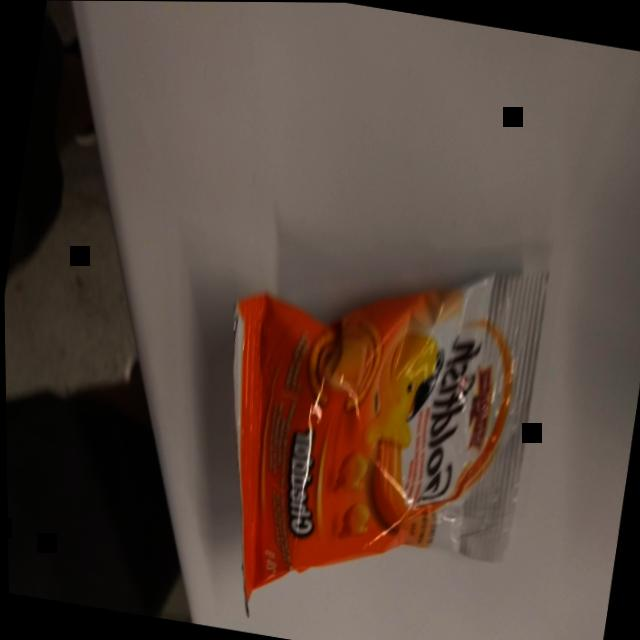crackers: (179, 208, 562, 640)
